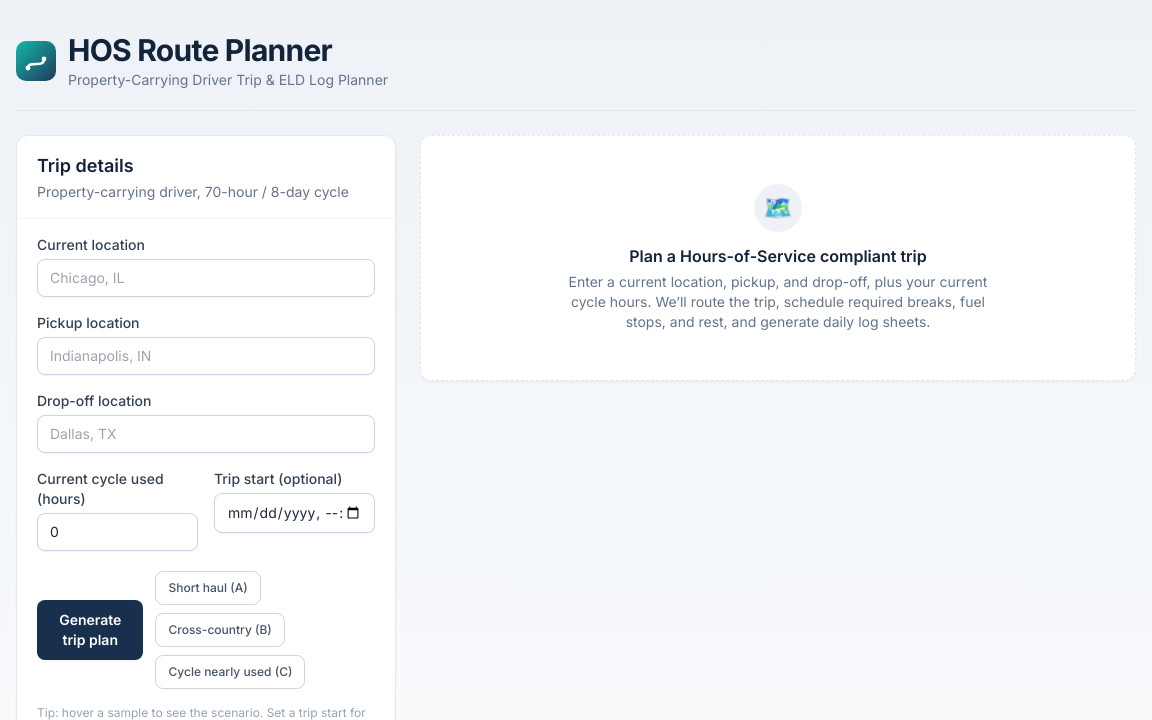
TripPlannerPage › maps server validation errors onto form fields
The image size is (1152, 720).
Click the button "Short haul (A)" at point(208, 588), box x1=156 y1=571 x2=261 y2=605
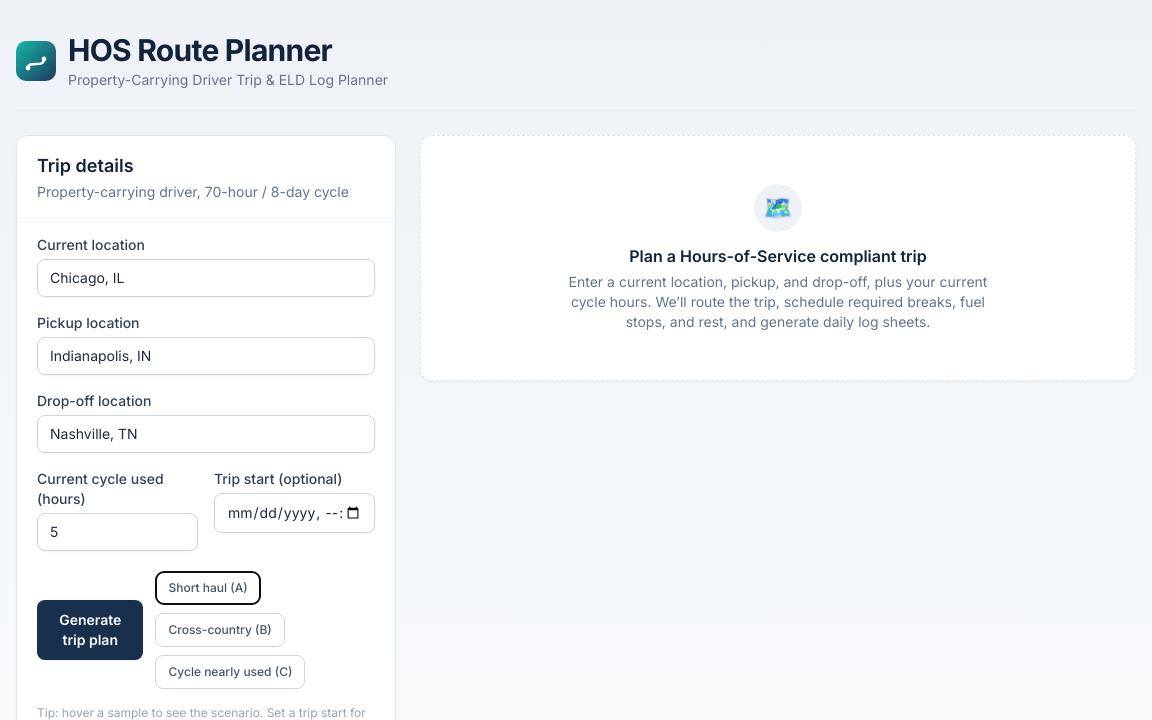
Click the button "Generate trip plan" at point(90, 630), box x1=37 y1=600 x2=144 y2=660
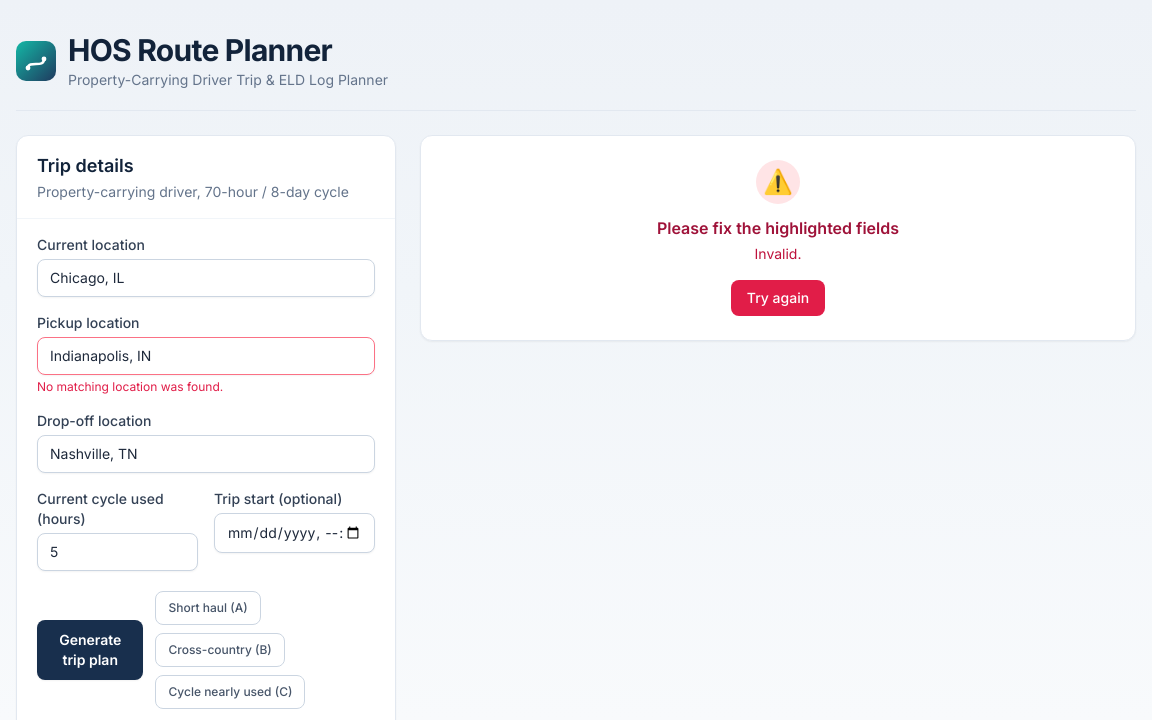
Expected: the text "No matching location was found." is shown, x1=37 y1=379 x2=223 y2=394
